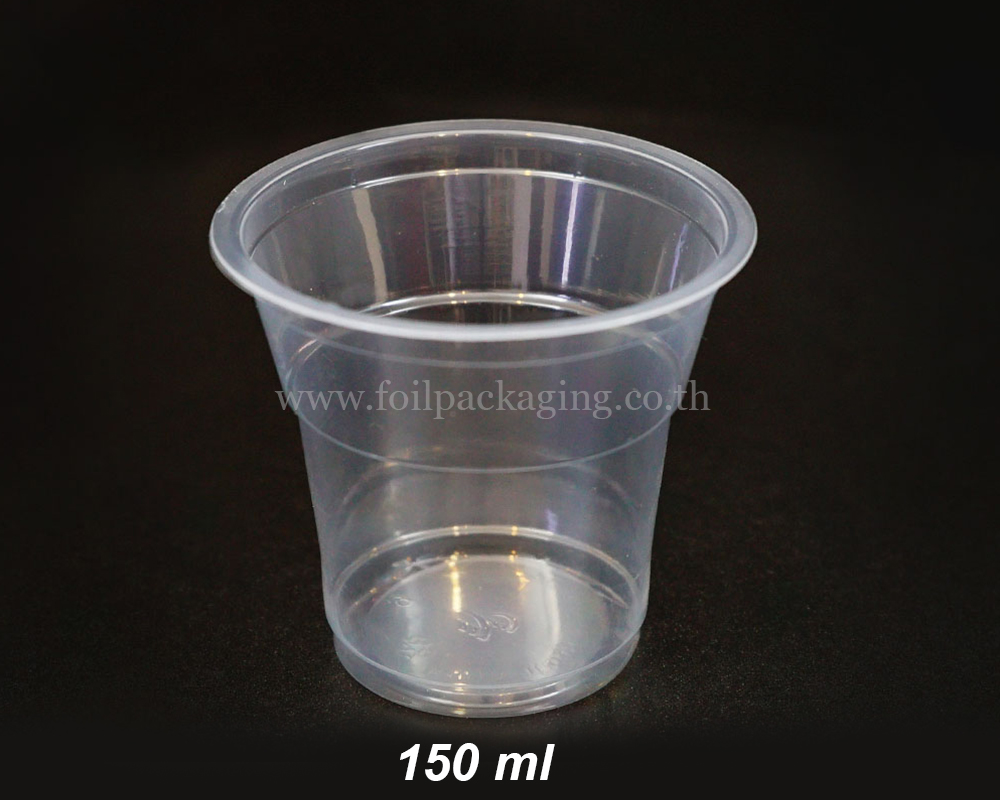plastic_bottle: (202, 107, 762, 727)
